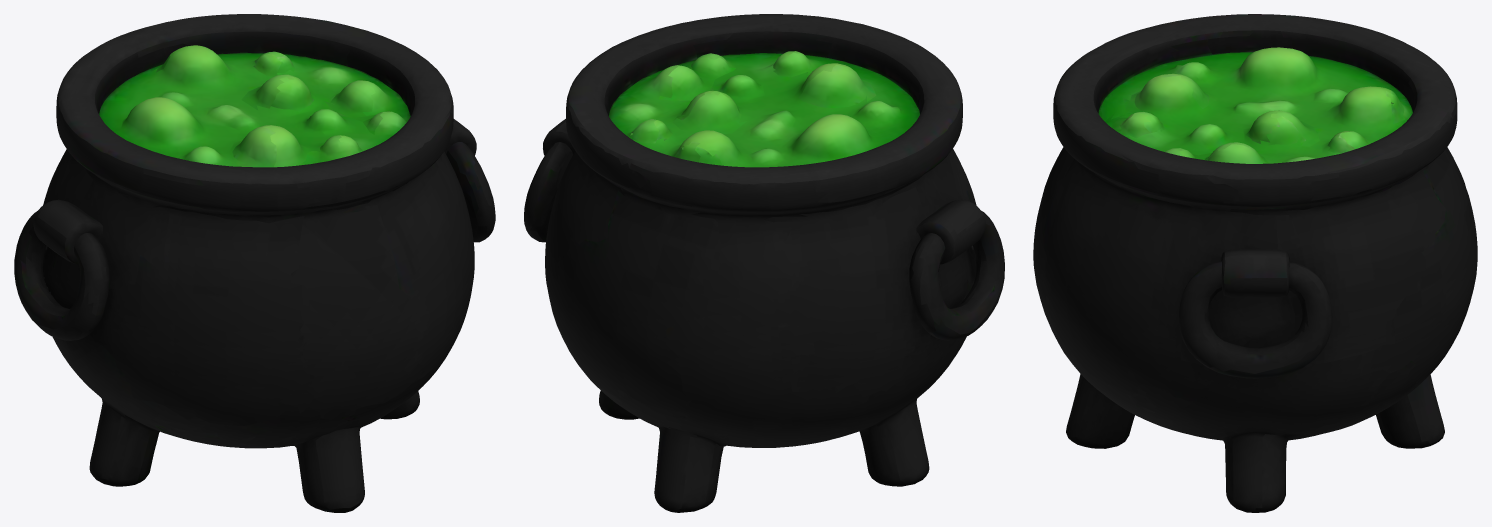
The model's file is x-cauldron.glb.
3 views of the same model, side by side, from view 1: azimuth 30°, elevation 25°; view 2: azimuth 150°, elevation 25°; view 3: azimuth 270°, elevation 25° (orthographic).
Parts seen in each view (by area): view 1: geometry_0; view 2: geometry_0; view 3: geometry_0.
Boxes of the visible parts, x1=… form: geometry_0: x1=14, y1=14, x2=495, y2=512; geometry_0: x1=524, y1=14, x2=1004, y2=512; geometry_0: x1=1033, y1=14, x2=1477, y2=512.
Bounding box in the file's own units: 0.25 × 0.1975 × 0.2266.
Materials: 1 (1 with a texture image).
